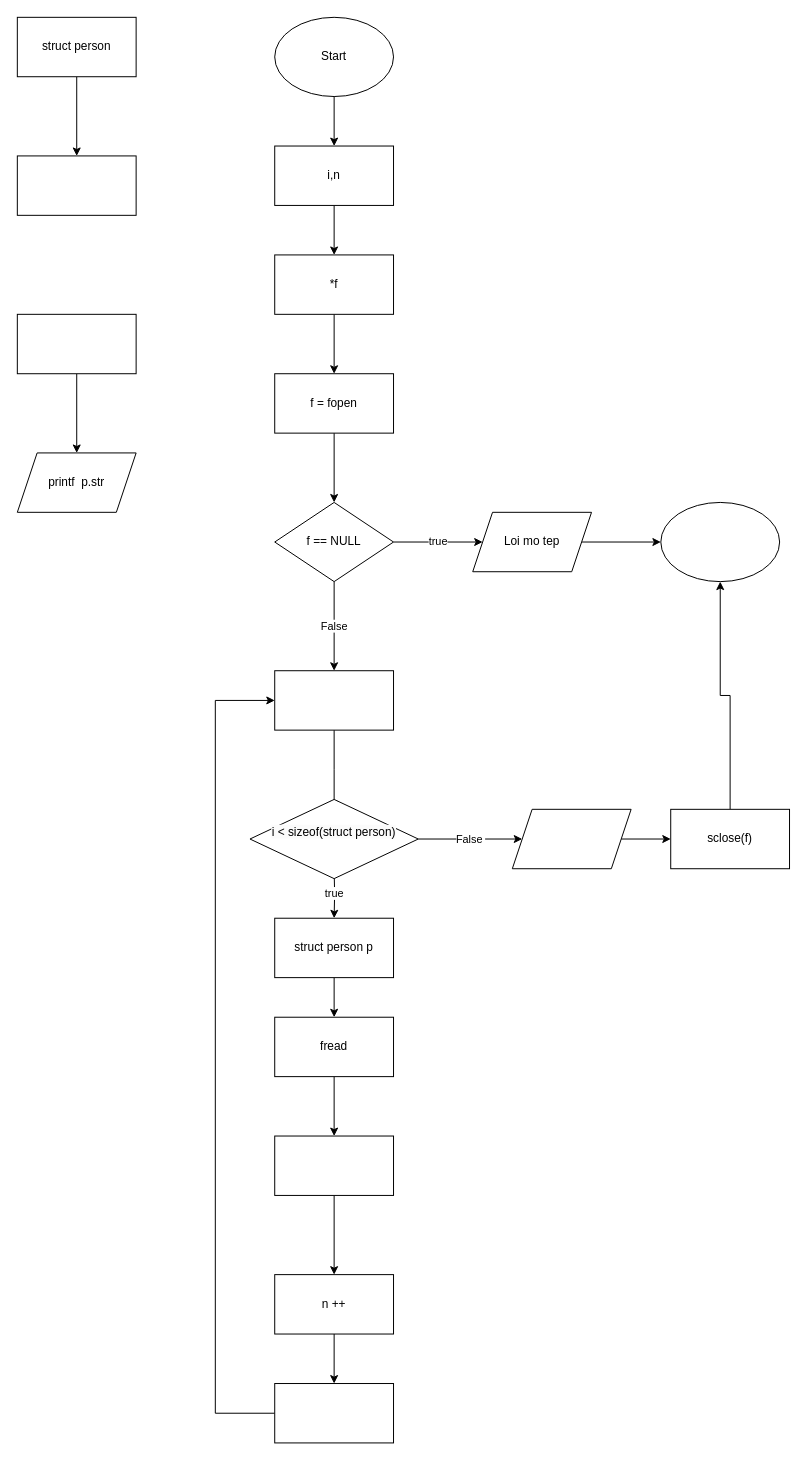
Some shapes in this 807 by 1460 pixel diagram are drawn without their labels. Here are the shapes that lost their labels. From the top down, the centre of each, then its label:
At point 76,185: "int id; char str[50];".
At point 76,343: "print_person".
At point 720,541: "End".
At point 334,700: "i = 0".
At point 571,838: "so dong".
At point 334,1165: "print_person(p)".
At point 334,1413: "i++".
